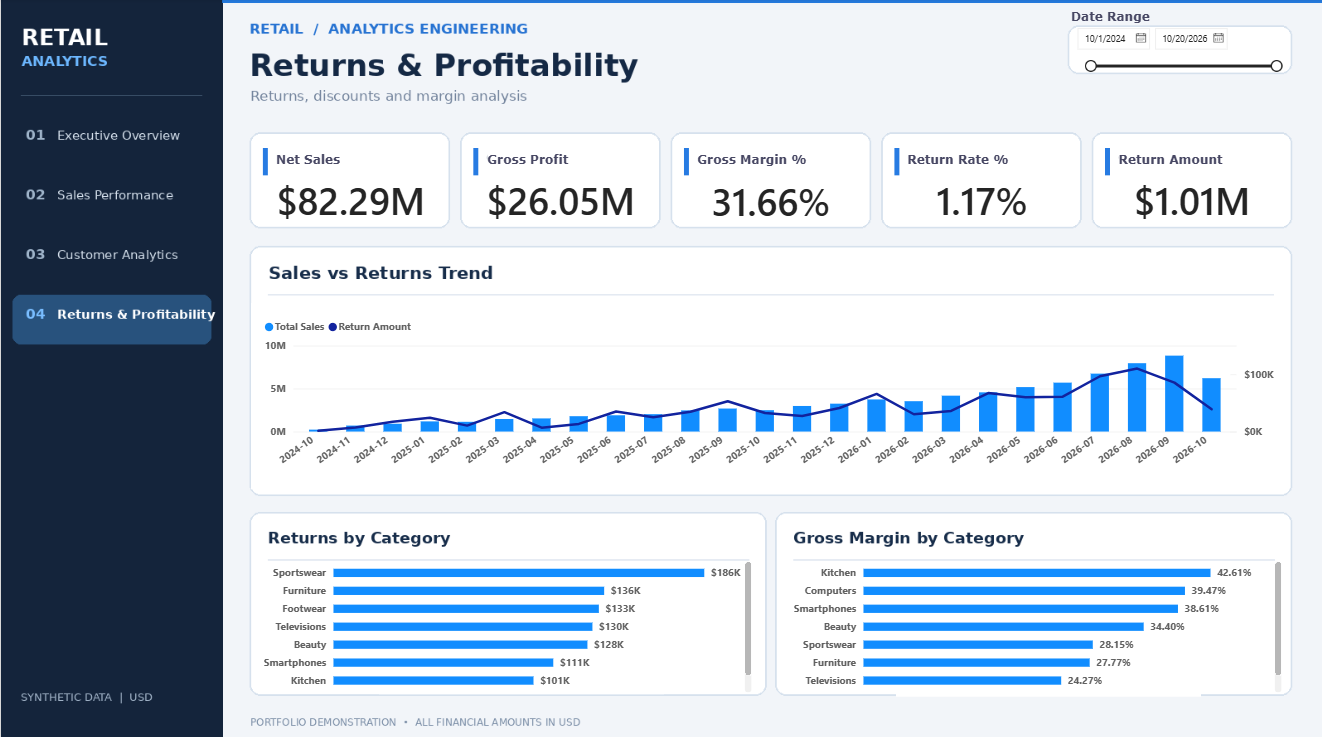

The dashboard page shown, as its layout file describes it:
{"tool":"powerbi","page":{"name":"Returns & Profitability","canvas":[1600,900],"ordinal":3},"visuals":[{"type":"textbox","box":[1093.8,185.1,176.8,31.5],"z":0},{"type":"textbox","box":[1348.3,185,176.8,31.4],"z":1000},{"type":"textbox","box":[840.6,185,176.8,31.4],"z":2000},{"type":"textbox","box":[586,185.5,176.8,31.4],"z":3000},{"type":"textbox","box":[332.4,185,176.8,31.4],"z":4000},{"type":"shape","box":[446.4,680.1,342.3,149.3],"z":5000},{"type":"shape","box":[1069.2,683.1,368,149.3],"z":6000},{"type":"shape","box":[1296.9,40.7,179.5,42.2],"z":7000},{"type":"cardVisual","fields":{"Data":["marts fct_order_items.Net Sales"]},"box":[307,216,228.2,54.3],"z":8000},{"type":"slicer","fields":{"Values":["dim_date.Date"]},"box":[1291.1,32.1,263.7,69.5],"z":9000},{"type":"cardVisual","fields":{"Data":["marts fct_order_items.Gross Profit"]},"box":[561,216,228.2,54.3],"z":10000},{"type":"cardVisual","fields":{"Data":["marts fct_order_items.Gross Margin %"]},"box":[815,216.6,228.2,54.3],"z":11000},{"type":"cardVisual","fields":{"Data":["marts fct_order_items.Return Rate %"]},"box":[1069,216,228.2,54.3],"z":12000},{"type":"cardVisual","fields":{"Data":["marts fct_returns.Return Amount"]},"box":[1323,216,228.2,54.3],"z":13000},{"type":"textbox","box":[1291,12.1,176.4,31.7],"z":14000},{"type":"shape","box":[456.4,690.1,342.3,149.3],"z":14001},{"type":"shape","box":[1079.2,693.1,368,149.3],"z":14002},{"type":"lineClusteredColumnComboChart","title":"Monthly Sales Trend","fields":{"Category":["dim_date.Year Month"],"Y":["marts fct_order_items.Total Sales"],"Y2":["marts fct_returns.Return Amount"]},"box":[301.6,368,1250.2,224.7],"z":14003},{"type":"clusteredBarChart","fields":{"Category":["marts dim_product.Category Name"],"Y":["marts fct_order_items.Gross Margin %"]},"box":[939.5,657.5,621.3,196],"z":14004},{"type":"clusteredBarChart","fields":{"Category":["marts dim_product.Category Name"],"Y":["marts fct_returns.Return Amount"]},"box":[300.1,657.5,621.3,196],"z":14005},{"type":"actionButton","box":[27.1,147.8,199.1,33.2],"z":14006},{"type":"actionButton","box":[16.6,220.2,194.5,33.2],"z":14007},{"type":"actionButton","box":[16.6,294.1,209.6,33.2],"z":14008}]}

Visuals, with their boxes on the page's 1600x900 design canvas (x1, y1, x2, y2). These are canvas units, not pixel positions in the 1322x737 screenshot, which may show the page scaled, cropped or inside an application window:
textbox: bbox(1094, 185, 1271, 217)
textbox: bbox(1348, 185, 1525, 216)
textbox: bbox(841, 185, 1017, 216)
textbox: bbox(586, 186, 763, 217)
textbox: bbox(332, 185, 509, 216)
shape: bbox(446, 680, 789, 829)
shape: bbox(1069, 683, 1437, 832)
shape: bbox(1297, 41, 1476, 83)
cardVisual - marts fct_order_items.Net Sales: bbox(307, 216, 535, 270)
slicer - dim_date.Date: bbox(1291, 32, 1555, 102)
cardVisual - marts fct_order_items.Gross Profit: bbox(561, 216, 789, 270)
cardVisual - marts fct_order_items.Gross Margin %: bbox(815, 217, 1043, 271)
cardVisual - marts fct_order_items.Return Rate %: bbox(1069, 216, 1297, 270)
cardVisual - marts fct_returns.Return Amount: bbox(1323, 216, 1551, 270)
textbox: bbox(1291, 12, 1467, 44)
shape: bbox(456, 690, 799, 839)
shape: bbox(1079, 693, 1447, 842)
"Monthly Sales Trend" lineClusteredColumnComboChart: bbox(302, 368, 1552, 593)
clusteredBarChart - marts dim_product.Category Name x marts fct_order_items.Gross Margin %: bbox(940, 658, 1561, 854)
clusteredBarChart - marts dim_product.Category Name x marts fct_returns.Return Amount: bbox(300, 658, 921, 854)
actionButton: bbox(27, 148, 226, 181)
actionButton: bbox(17, 220, 211, 253)
actionButton: bbox(17, 294, 226, 327)
